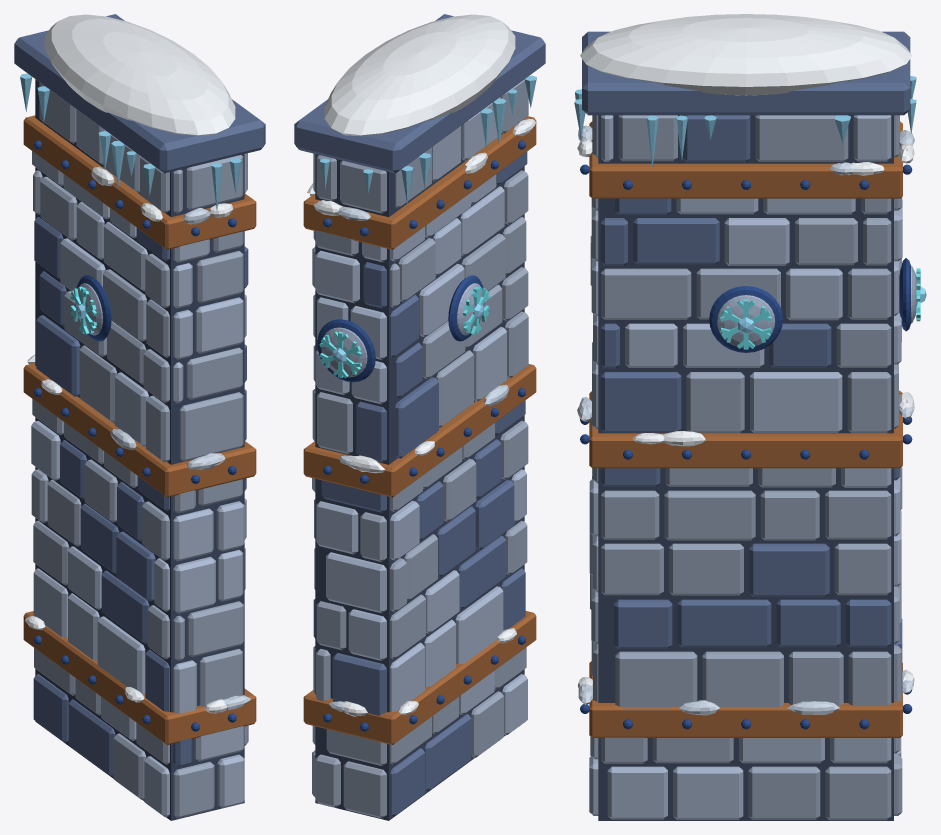
File: BossGate_FrostPeaks.fbx
3 renders of one model, left to right at view 1: azimuth 30°, elevation 25°; view 2: azimuth 150°, elevation 25°; view 3: azimuth 270°, elevation 25°, orthographic. The views are drawn at different scales.
Visible parts, largest first — view 1: BossGate_FrostPeaks; view 2: BossGate_FrostPeaks; view 3: BossGate_FrostPeaks.
Boxes of the visible parts, left/top/right/bottom form: BossGate_FrostPeaks: left=14, top=14, right=265, bottom=820; BossGate_FrostPeaks: left=294, top=14, right=545, bottom=820; BossGate_FrostPeaks: left=574, top=14, right=926, bottom=820.
Bounding box in the file's own units: 154 × 832 × 343.
